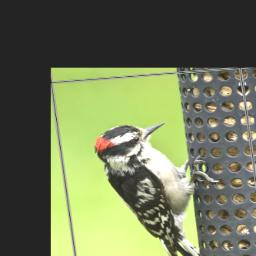Woodpecker: (91, 115, 228, 256)
